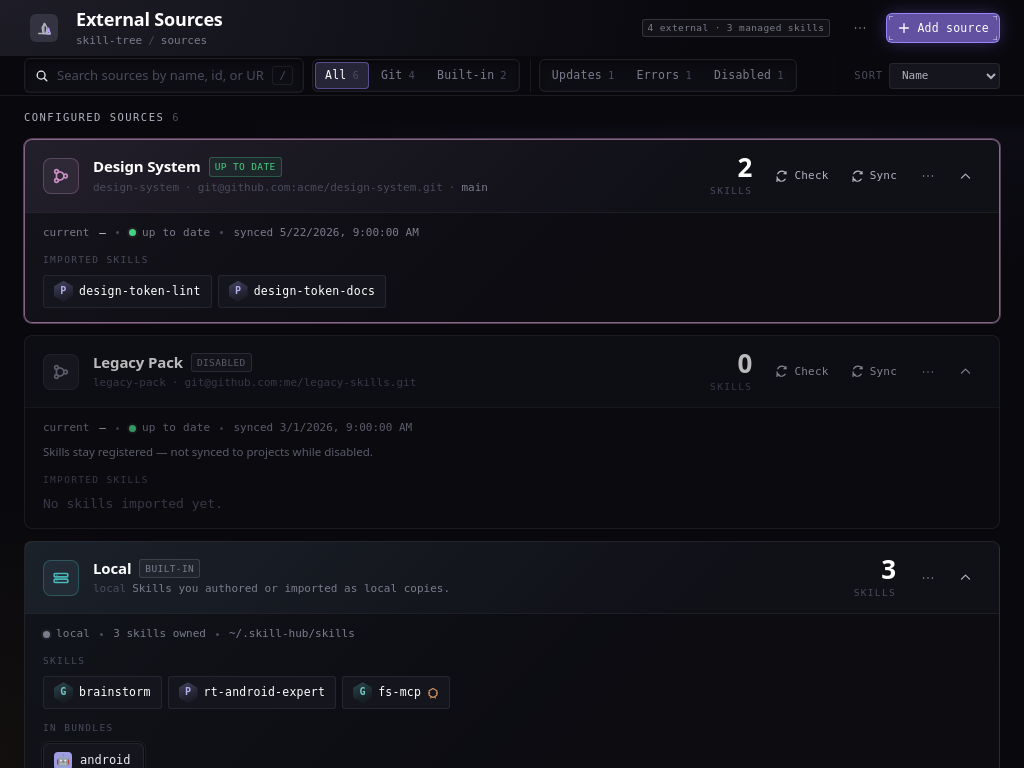
Test: Sources — search › shows a no-match empty state rather than an empty page
Type "zzzz-nothing" into the field with placeholder "Search sources by name, id, or URL…" at (161, 76), box [57, 66, 264, 85]
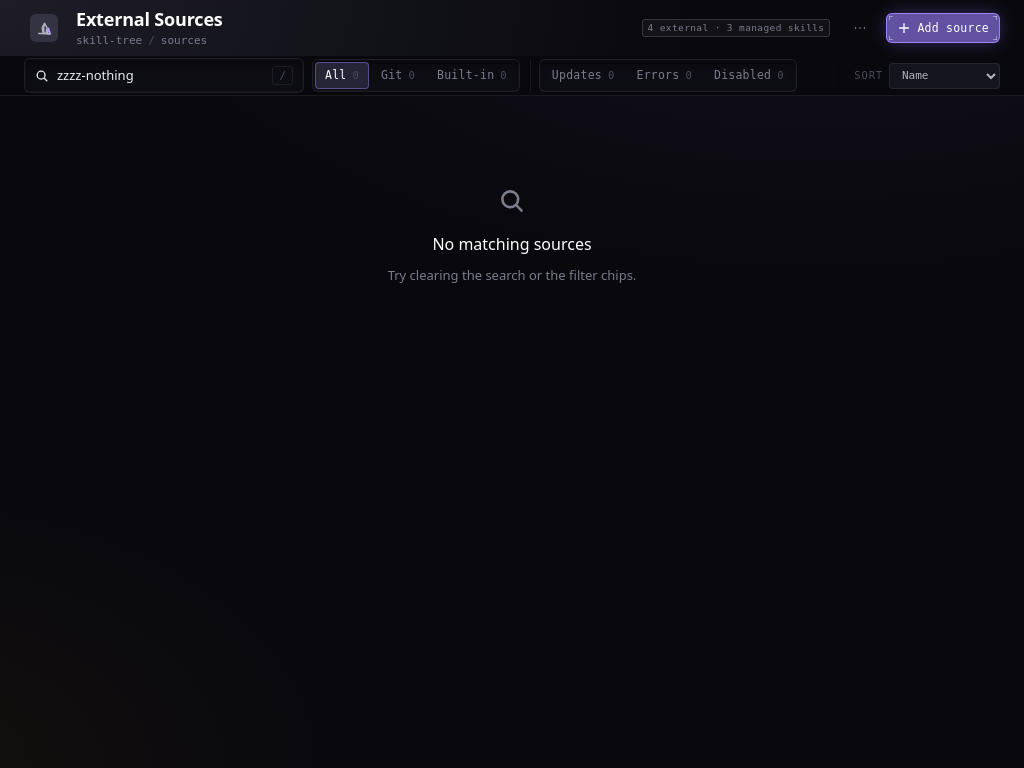
Check: the heading "No matching sources" is shown, box [432, 233, 592, 256]
